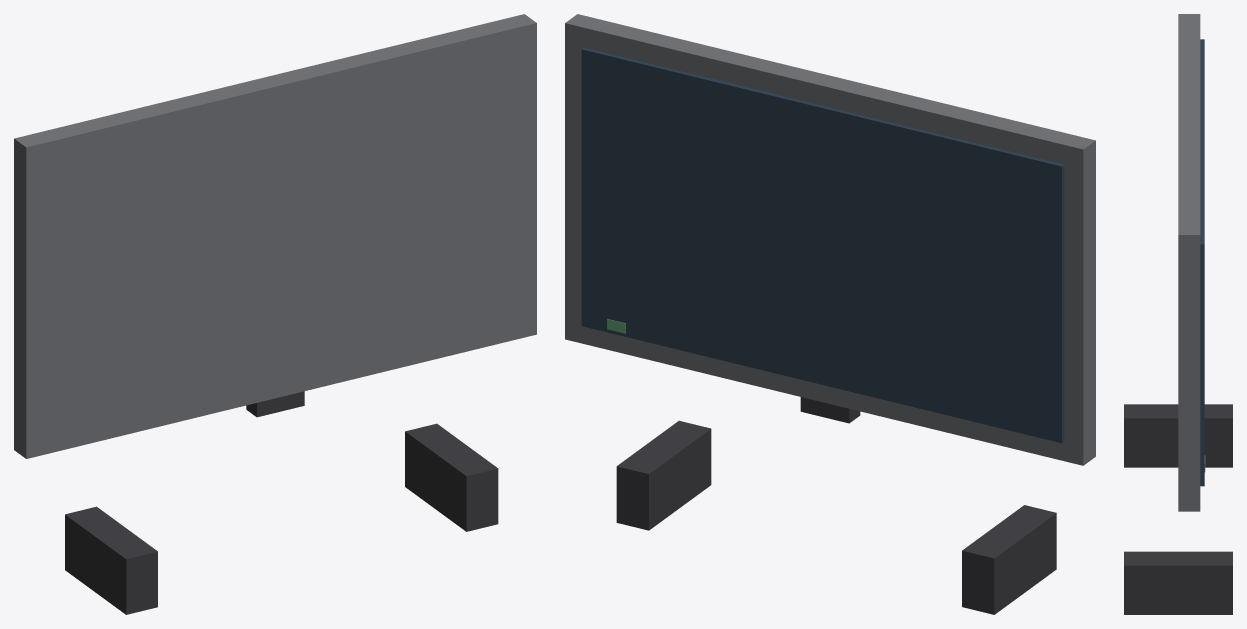
The model's file is eld_tv_43.glb.
3 renders of one model, left to right at view 1: azimuth 30°, elevation 25°; view 2: azimuth 150°, elevation 25°; view 3: azimuth 270°, elevation 25°, orthographic. The views are drawn at different scales.
Visible parts, largest first — view 1: ELD_TV_43_v01; view 2: ELD_TV_43_v01; view 3: ELD_TV_43_v01.
Part boxes in pixels (<box>): ELD_TV_43_v01: <box>14,14,536,614</box>; ELD_TV_43_v01: <box>565,14,1095,614</box>; ELD_TV_43_v01: <box>1124,14,1232,614</box>.
Bounding box in the file's own units: 0.96 × 0.83 × 0.2.
